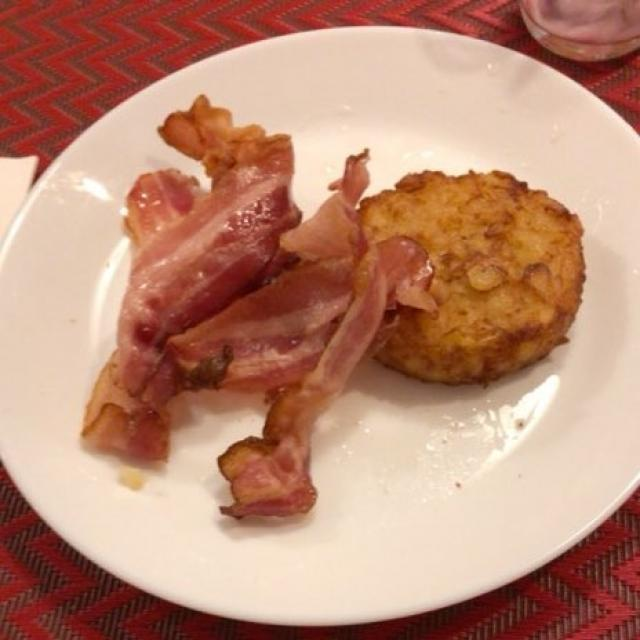bacon: (86, 107, 414, 519)
